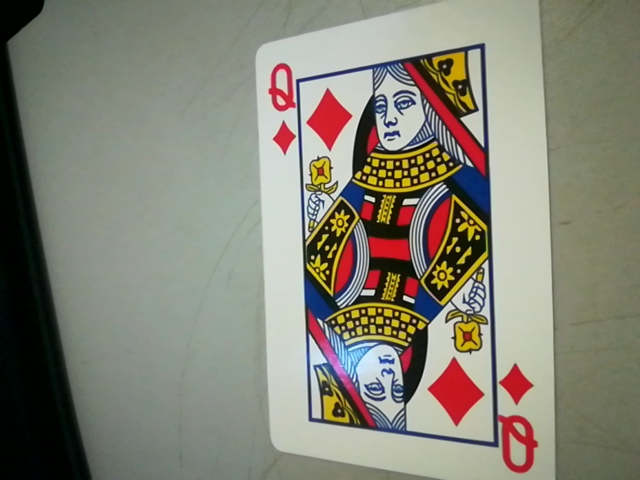fk q: (490, 361, 551, 480)
